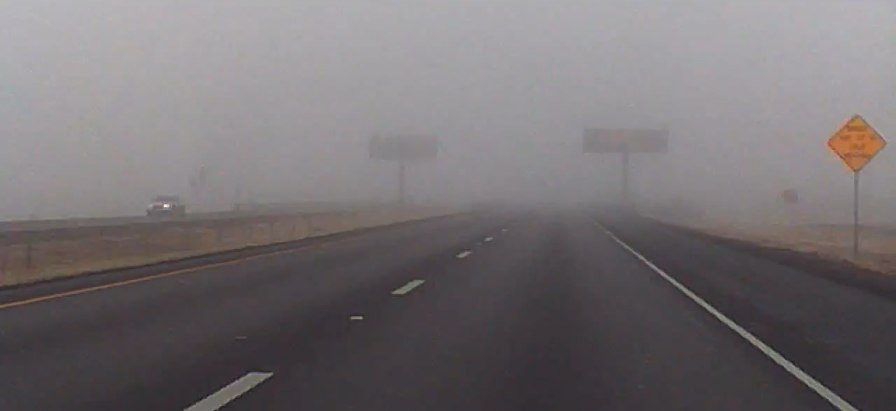car: (143, 191, 186, 218)
